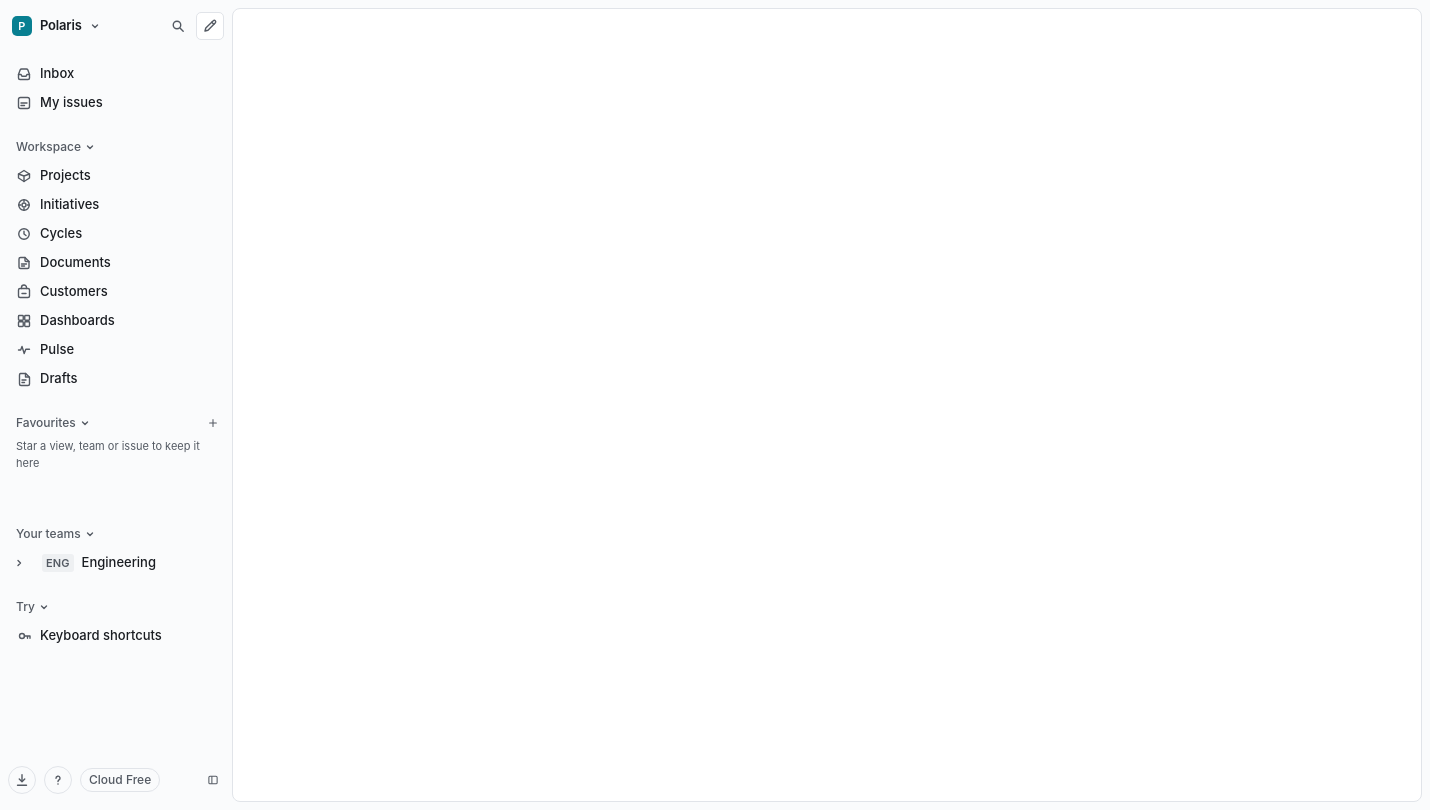
Test: collapsing the sidebar › takes the navigation away and leaves a way back
The width and height of the screenshot is (1440, 810).
Expected: the navigation bar "Workspace" is shown, [0,0,232,809]
Click the button named "Collapse sidebar" at (213, 780), box [202,769,224,791]
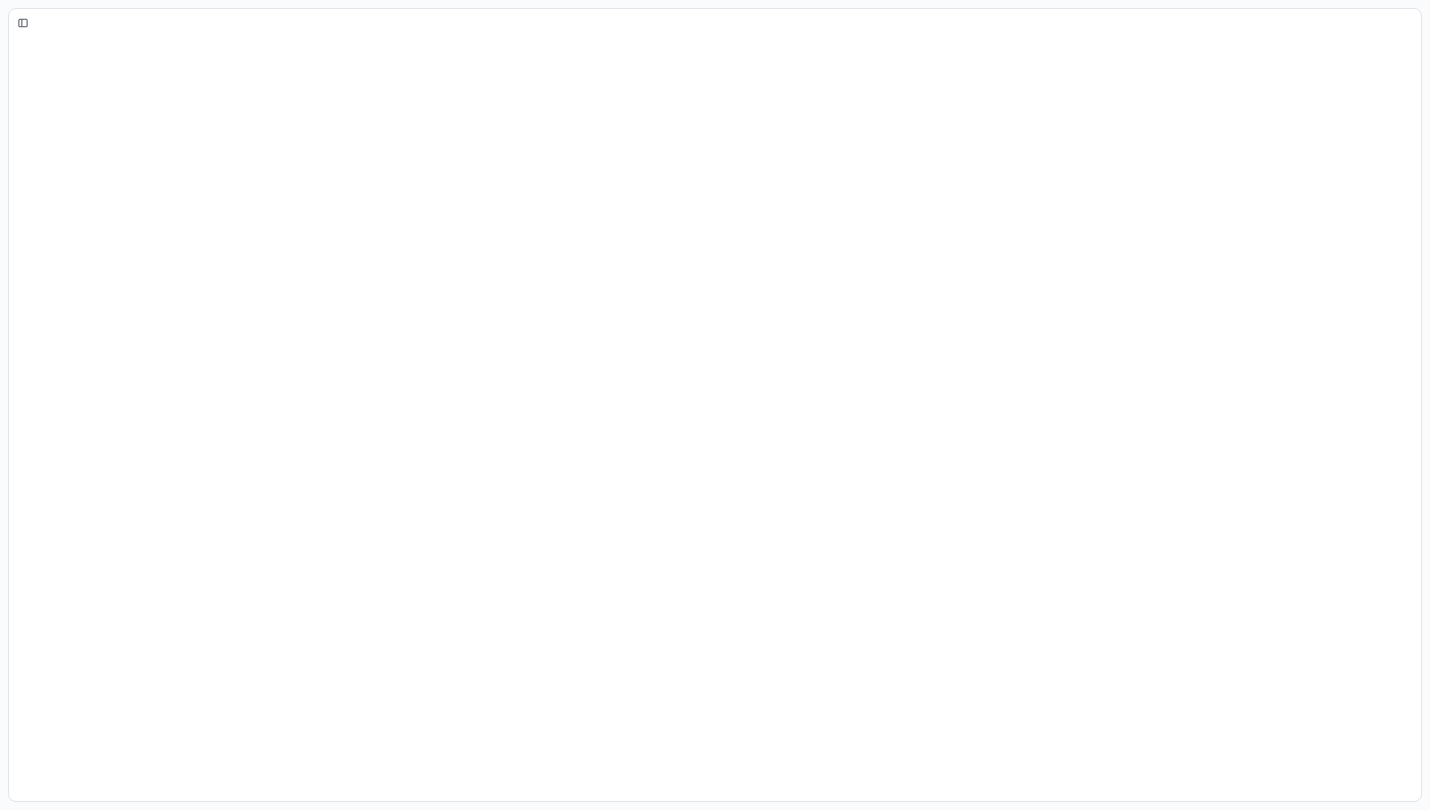
Now the button "Workspace" is gone
Now the button named "Show sidebar" is shown, box [12,12,34,34]
